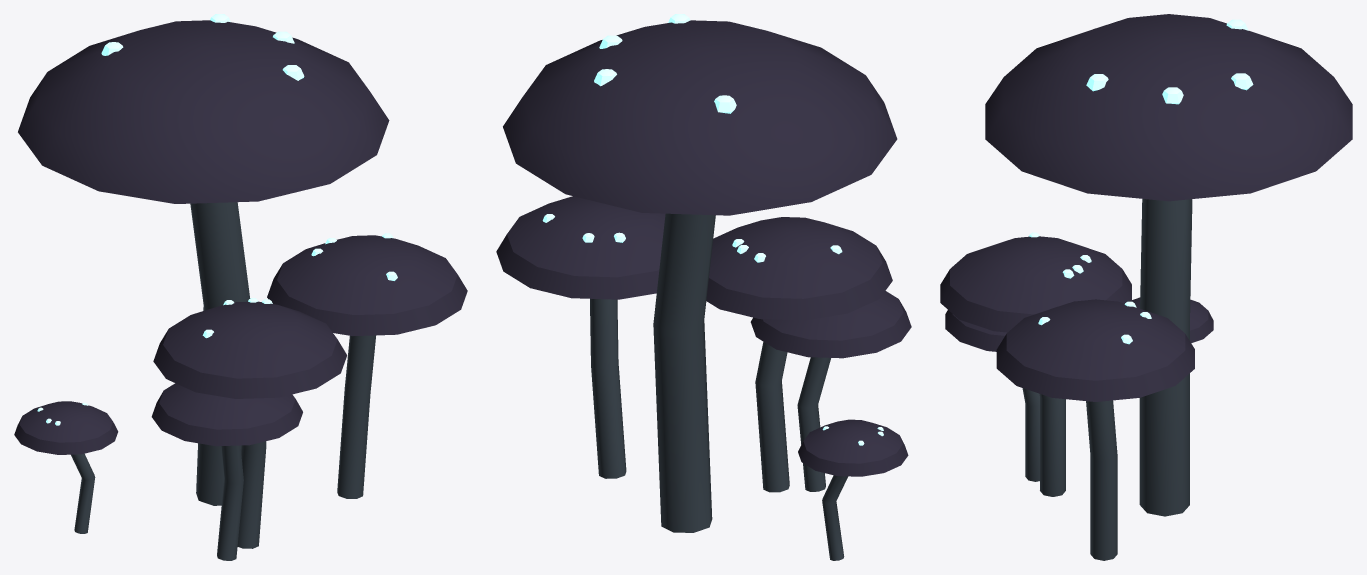
File: alien_plant_c.glb
3 views of the same model, side by side, from view 1: azimuth 30°, elevation 25°; view 2: azimuth 150°, elevation 25°; view 3: azimuth 270°, elevation 25° (orthographic). The views are drawn at different scales.
Parts seen in each view (by area): view 1: alien_plant_c; view 2: alien_plant_c; view 3: alien_plant_c.
Part boxes in pixels (box(x1,y1,x2,y2)): alien_plant_c: box(14, 14, 467, 560); alien_plant_c: box(496, 14, 911, 560); alien_plant_c: box(940, 14, 1352, 560).
Size of the model in its own units: 2.68 by 2.89 by 2.36.
